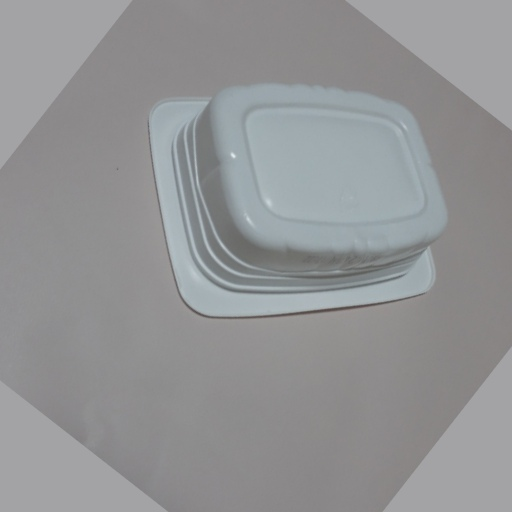Plastic_4: (145, 79, 448, 322)
